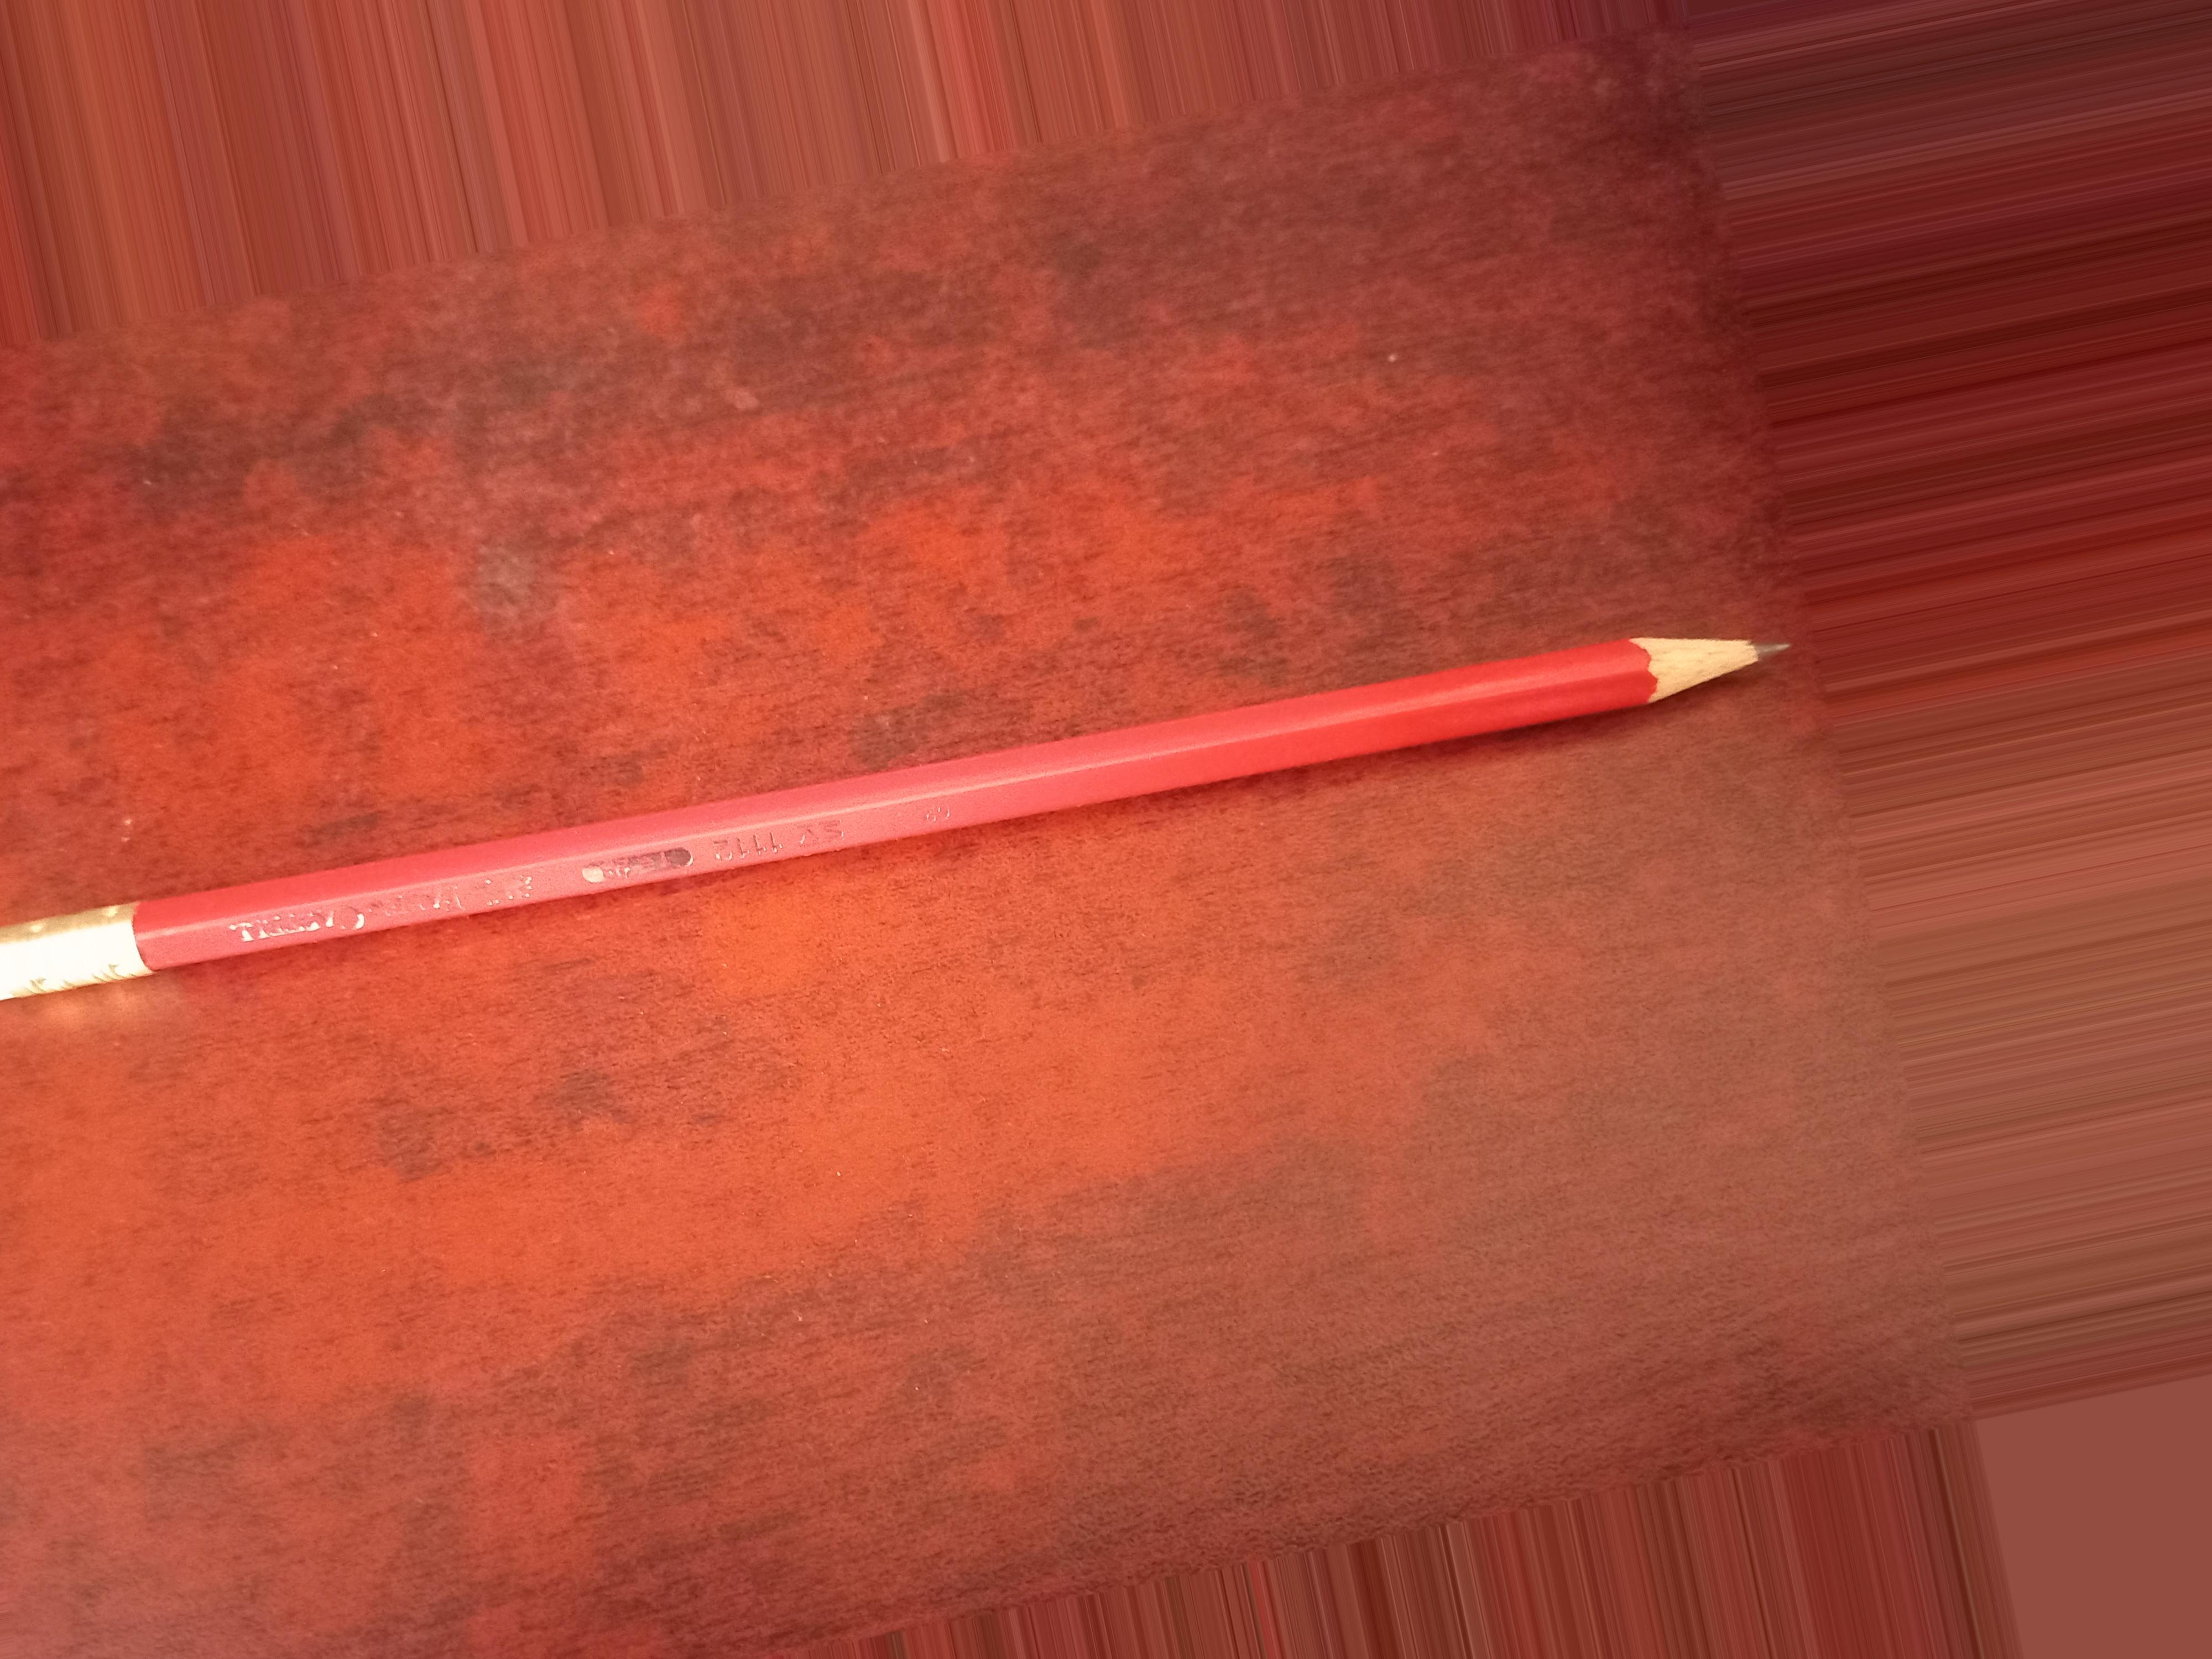pencil: (0, 528, 1876, 967)
